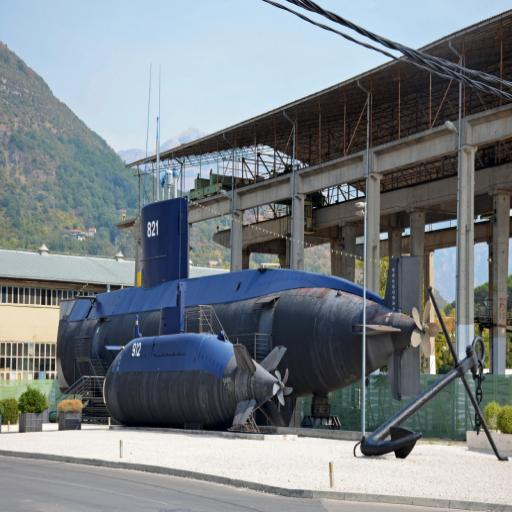submarine: (52, 184, 437, 412), (91, 333, 286, 432)
